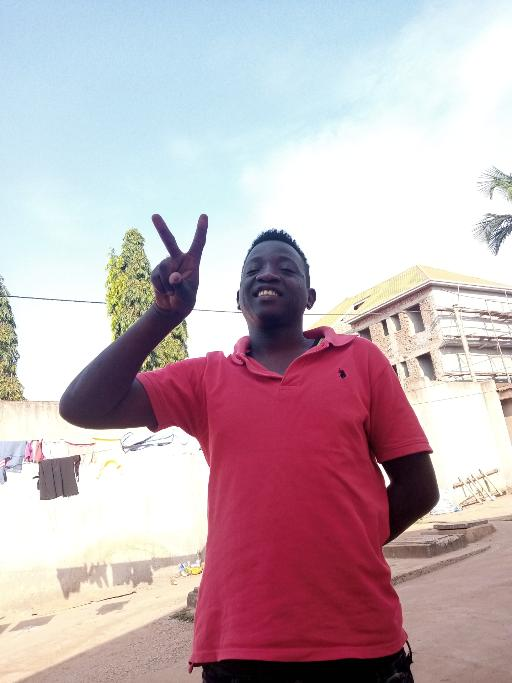peace: (143, 207, 209, 316)
